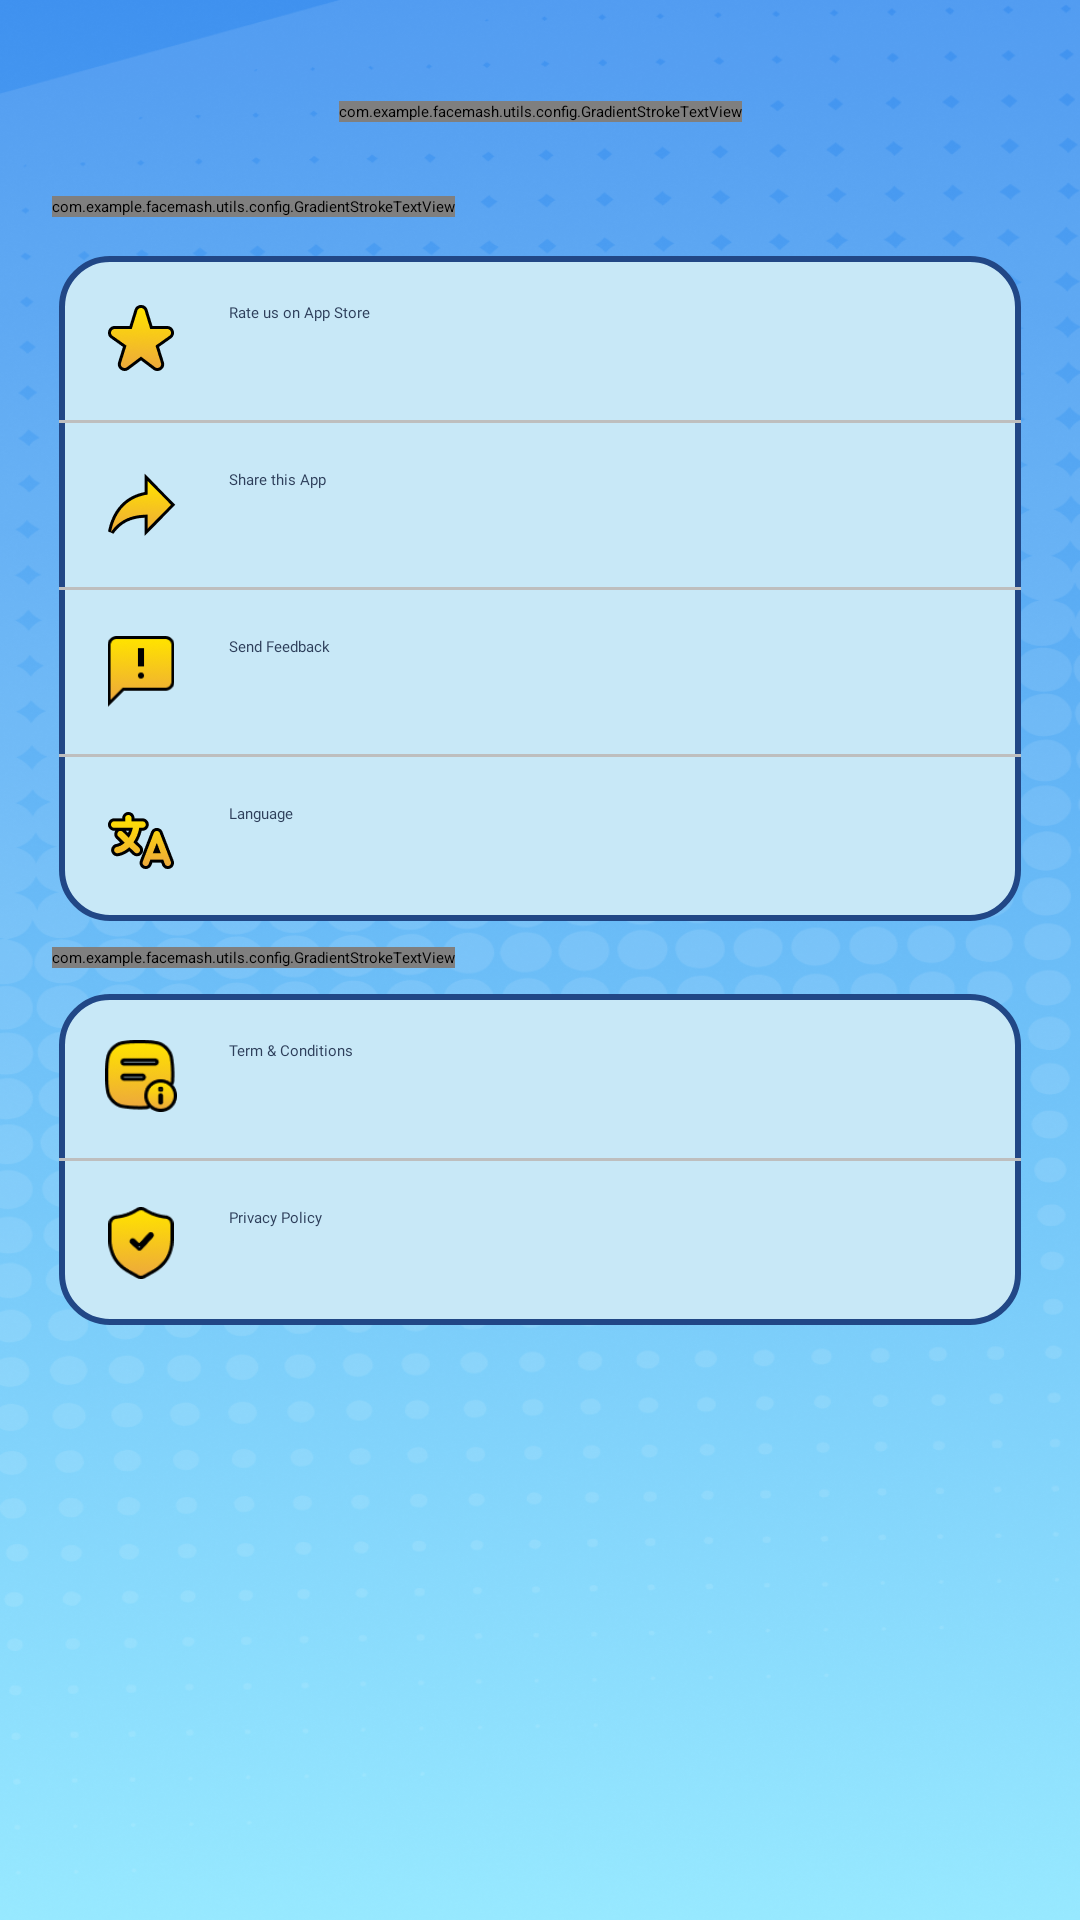

Point at icon controls on the screen. Image size 1080px×1920px, points as (x=x, y=y).
share setting: (x=141, y=505)
translate: (x=141, y=840)
